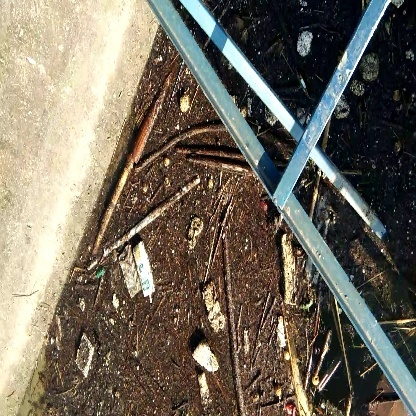branch: (220, 237, 253, 409)
